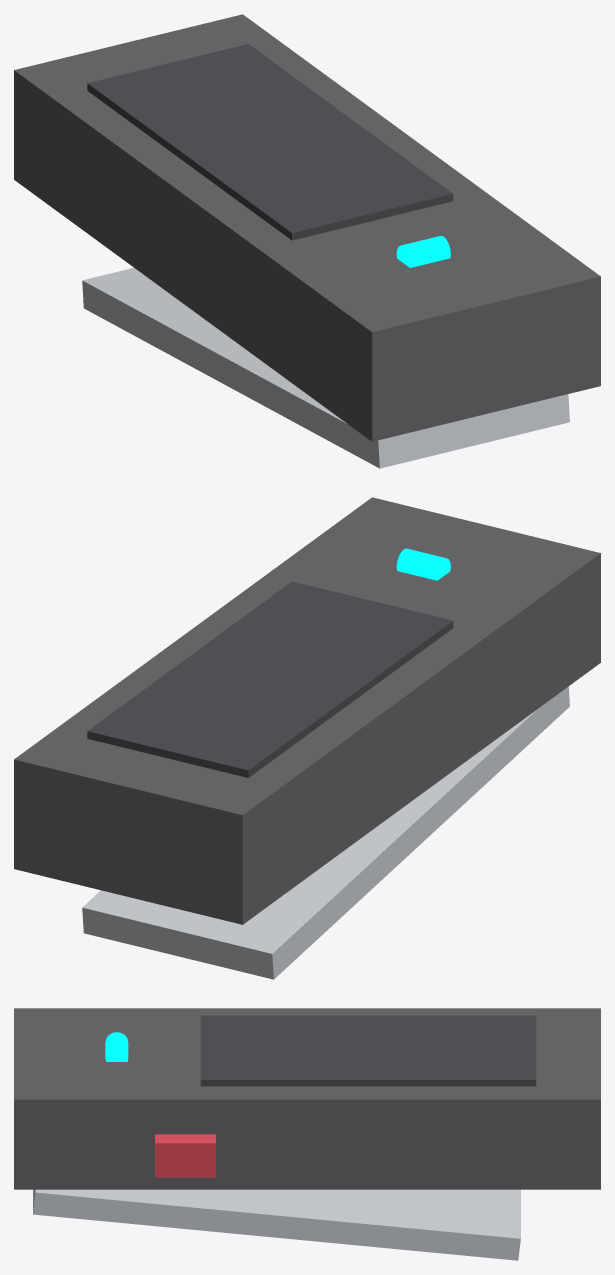
File: concept_4_airclip_mini.glb
3 views of the same model, one above another, from view 1: azimuth 30°, elevation 25°; view 2: azimuth 150°, elevation 25°; view 3: azimuth 270°, elevation 25° (orthographic). The views are drawn at different scales.
Parts seen in each view (by area): view 1: AirClip_CFRP_MainBody, AirClip_CapacitiveTouchPad, AirClip_StainlessSpring_Jaw, AirClip_StatusLED_Pill; view 2: AirClip_CFRP_MainBody, AirClip_CapacitiveTouchPad, AirClip_StainlessSpring_Jaw, AirClip_StatusLED_Pill; view 3: AirClip_CFRP_MainBody, AirClip_CapacitiveTouchPad, AirClip_StainlessSpring_Jaw, AirClip_MuteToggle_Crimson, AirClip_StatusLED_Pill.
Part boxes in pixels (x1,y1,x2,y2): AirClip_CFRP_MainBody: (14, 14, 600, 441); AirClip_CapacitiveTouchPad: (87, 44, 453, 240); AirClip_StainlessSpring_Jaw: (82, 268, 569, 468); AirClip_StatusLED_Pill: (396, 235, 450, 267); AirClip_CFRP_MainBody: (14, 497, 600, 924); AirClip_CapacitiveTouchPad: (87, 581, 453, 777); AirClip_StainlessSpring_Jaw: (82, 686, 569, 979); AirClip_StatusLED_Pill: (396, 548, 450, 580); AirClip_CFRP_MainBody: (14, 1008, 600, 1189); AirClip_CapacitiveTouchPad: (200, 1015, 536, 1086); AirClip_StainlessSpring_Jaw: (33, 1189, 520, 1260); AirClip_MuteToggle_Crimson: (155, 1134, 215, 1177); AirClip_StatusLED_Pill: (105, 1032, 128, 1061).
Bounding box in the file's own units: 0.0156 × 0.0132 × 0.0385.
